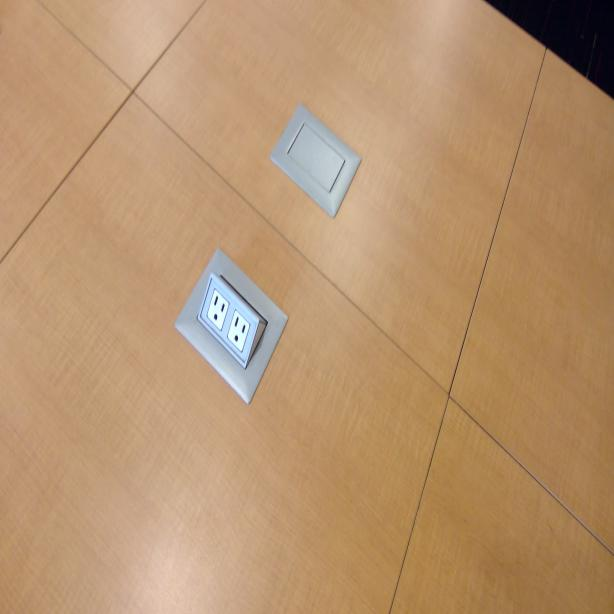typeb: (205, 288, 228, 330), (230, 313, 246, 357)
